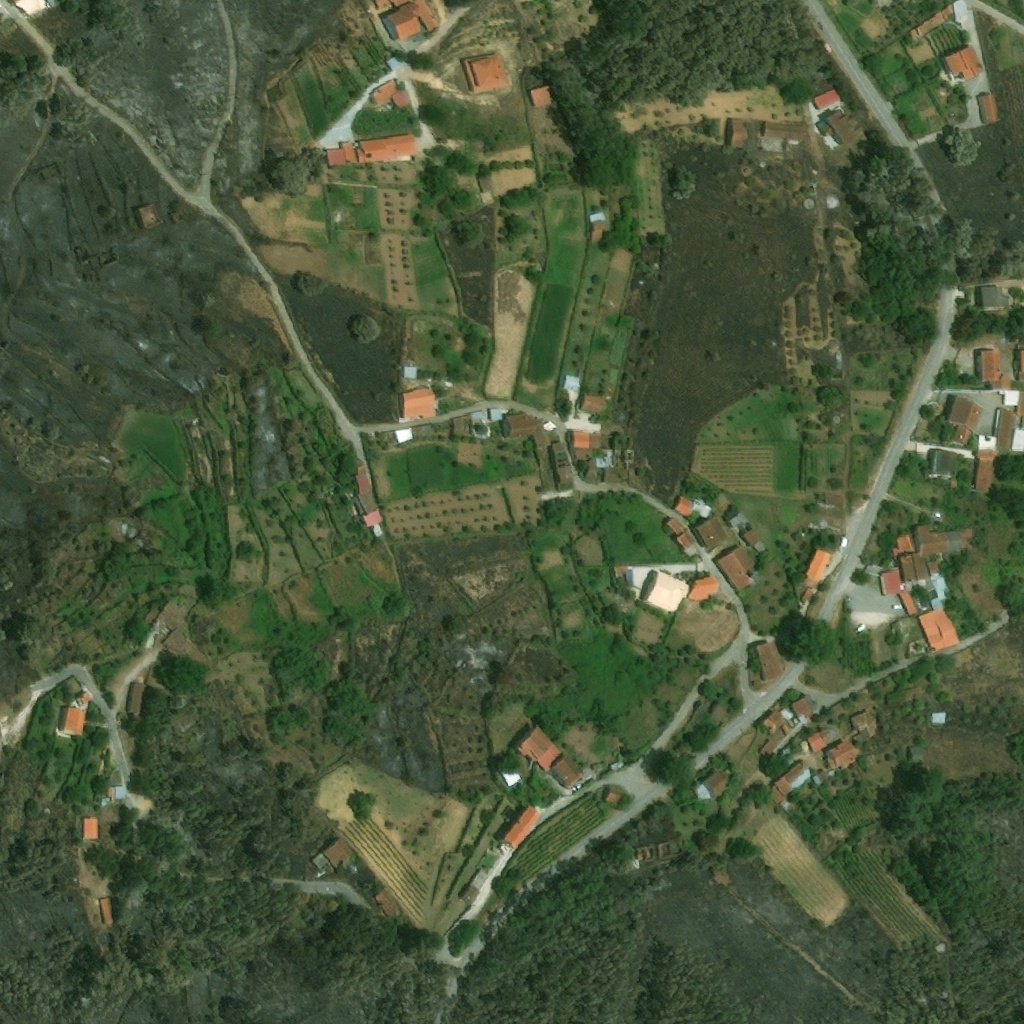0 no-damage: (324, 133, 420, 168), (512, 722, 563, 772), (383, 0, 441, 42), (762, 692, 818, 735), (640, 570, 687, 618), (815, 107, 870, 148), (712, 544, 758, 593), (943, 395, 985, 446), (461, 52, 513, 93), (498, 803, 542, 851), (916, 608, 961, 654), (355, 466, 385, 535), (915, 524, 973, 557), (767, 762, 812, 804), (506, 412, 558, 448), (309, 835, 353, 874), (942, 45, 986, 82), (998, 390, 1023, 451), (691, 770, 733, 806), (369, 78, 413, 110), (549, 753, 586, 791), (692, 515, 730, 552), (912, 6, 953, 40), (754, 640, 785, 683), (399, 385, 437, 420), (450, 409, 493, 439), (973, 435, 995, 493), (556, 374, 585, 418), (899, 551, 941, 581), (822, 739, 856, 774), (664, 517, 698, 551), (458, 870, 489, 907), (975, 285, 1013, 315), (553, 441, 576, 490), (56, 707, 88, 740), (674, 494, 716, 519), (803, 548, 832, 584), (925, 448, 957, 480), (974, 348, 1002, 384), (805, 726, 840, 754), (763, 121, 809, 142), (153, 601, 186, 630), (372, 887, 400, 920), (995, 409, 1015, 451), (688, 577, 721, 602), (615, 567, 642, 596), (163, 631, 192, 658), (726, 119, 752, 149), (396, 424, 433, 445), (812, 88, 843, 113), (976, 93, 1000, 124), (740, 528, 767, 555), (498, 760, 522, 790), (126, 683, 148, 714), (879, 569, 904, 596), (724, 506, 751, 531), (884, 687, 919, 706), (529, 85, 555, 108), (589, 210, 608, 241), (707, 702, 732, 725), (581, 392, 608, 413), (900, 584, 917, 617), (850, 711, 870, 735), (600, 787, 623, 807), (100, 898, 115, 926), (896, 532, 915, 554), (904, 745, 923, 767), (74, 689, 94, 708), (952, 0, 969, 22), (83, 818, 100, 840), (376, 0, 412, 10), (596, 450, 614, 468), (571, 432, 590, 449), (106, 785, 127, 800), (402, 360, 418, 378), (812, 771, 828, 788), (1015, 349, 1023, 381), (995, 378, 1014, 390), (926, 714, 944, 726), (489, 409, 505, 421)
1 minor-damage: (137, 201, 166, 230)
3 destroyed: (632, 846, 655, 867), (194, 417, 203, 424)
4 un-classified: (16, 0, 49, 16), (49, 0, 57, 8)
